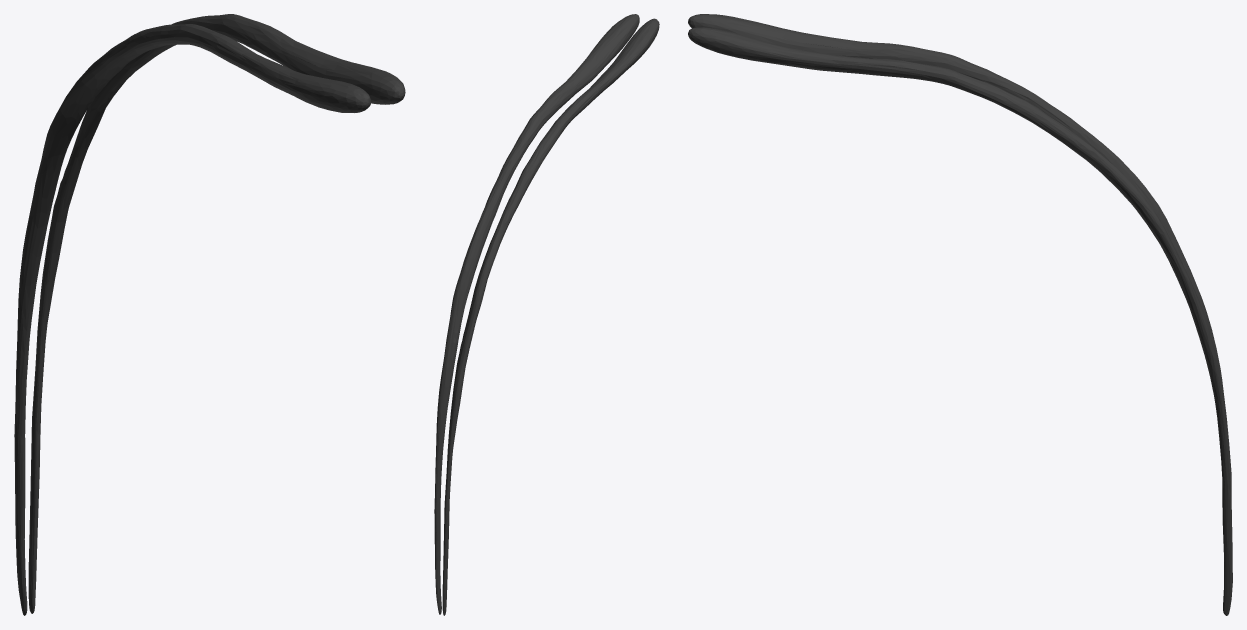
Rendered from m_sacrocaudalis_dorsalis_medialis.glb.
3 renders of one model, left to right at view 1: azimuth 30°, elevation 25°; view 2: azimuth 150°, elevation 25°; view 3: azimuth 270°, elevation 25°, orthographic. The views are drawn at different scales.
Parts seen in each view (by area): view 1: m_sacrocaudalis_dorsalis_medialis; view 2: m_sacrocaudalis_dorsalis_medialis; view 3: m_sacrocaudalis_dorsalis_medialis.
Part boxes in pixels (x1,y1,x2,y2): m_sacrocaudalis_dorsalis_medialis: (14, 14, 405, 615); m_sacrocaudalis_dorsalis_medialis: (434, 14, 659, 615); m_sacrocaudalis_dorsalis_medialis: (688, 14, 1232, 615).
Size of the model in its own units: 0.000755 by 0.00767 by 0.00639.
Materials: 1 (1 with a texture image).
